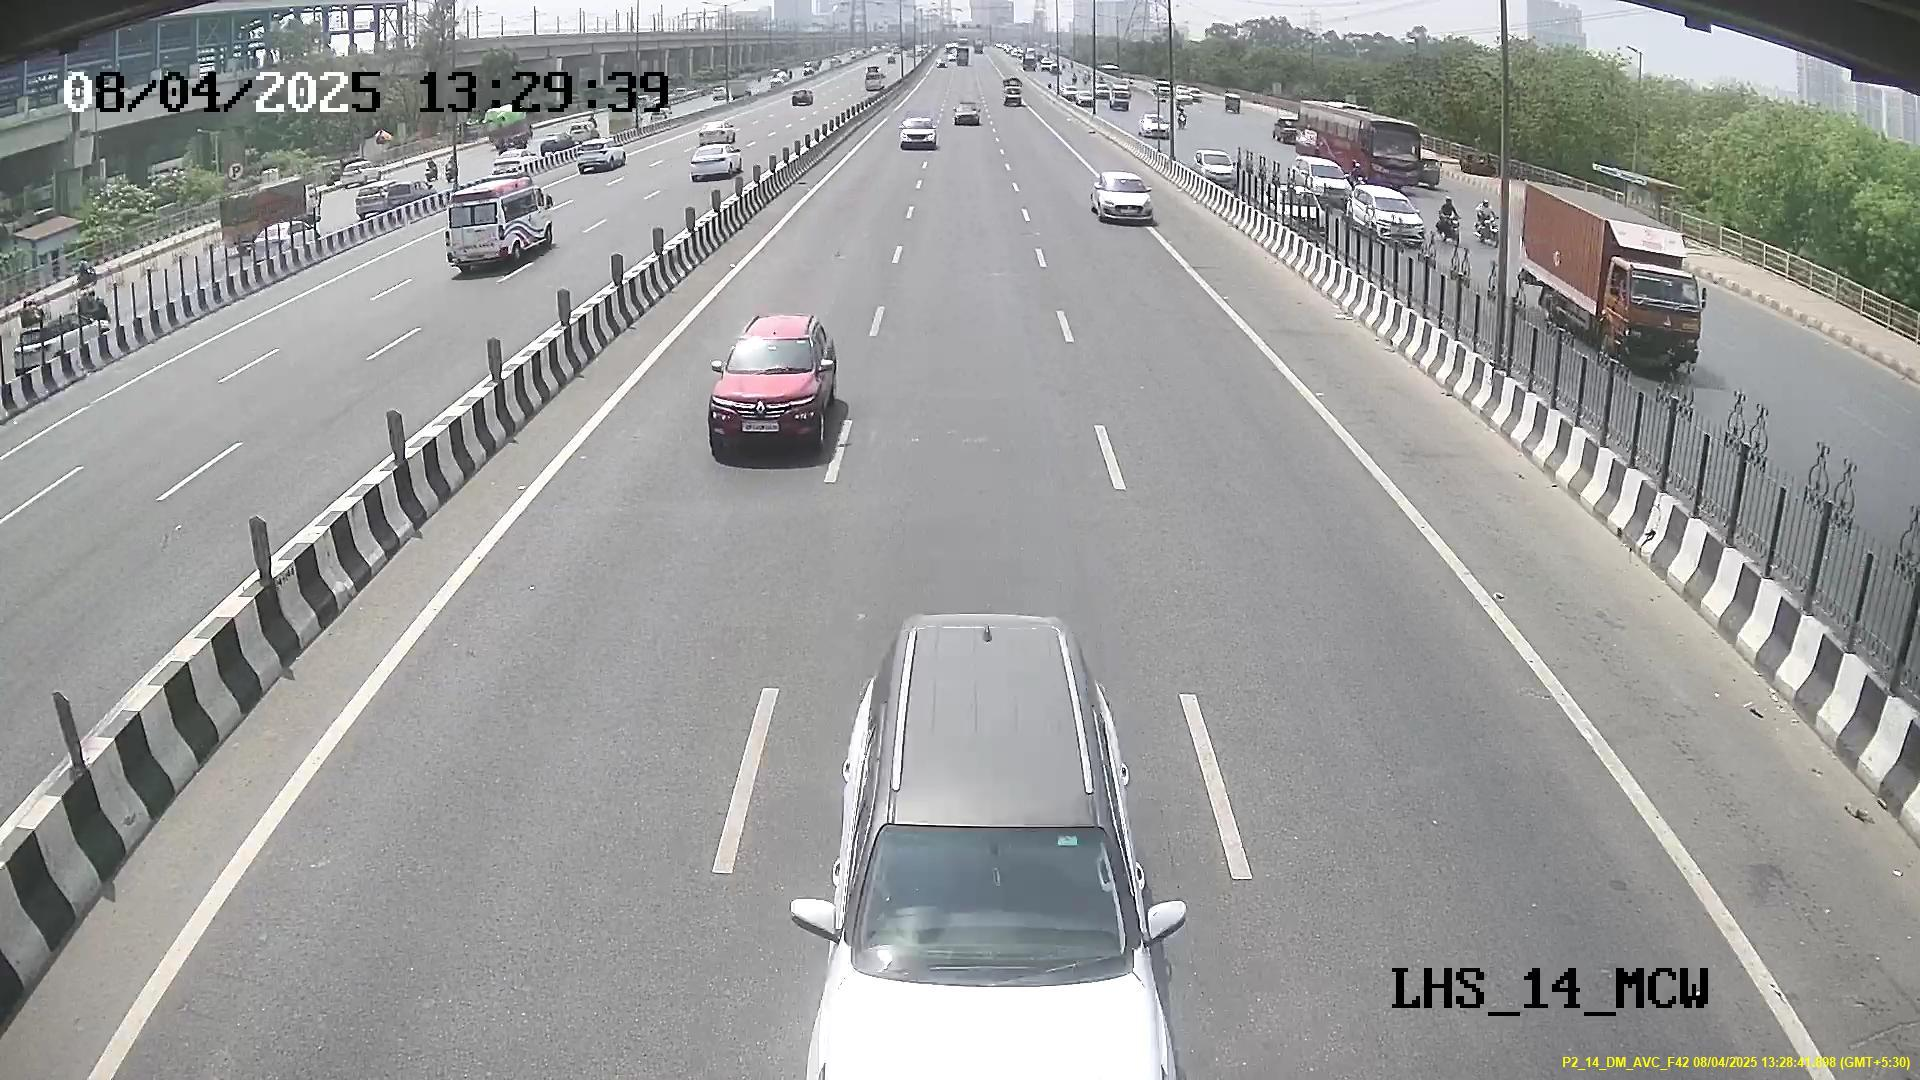car: (703, 313, 840, 456)
